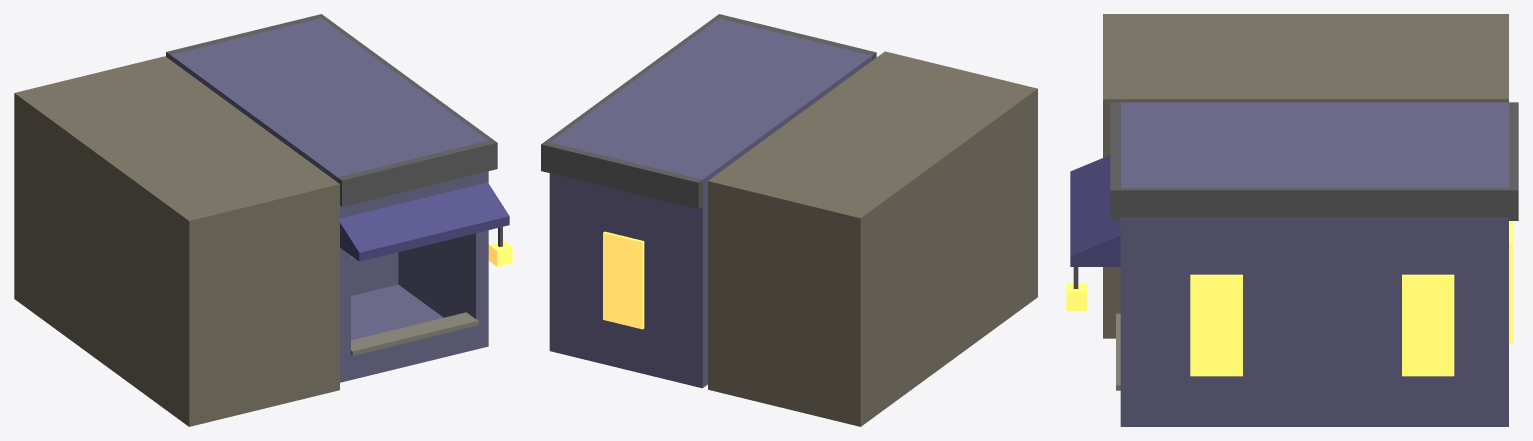
3 views of the same model, side by side, from view 1: azimuth 30°, elevation 25°; view 2: azimuth 150°, elevation 25°; view 3: azimuth 270°, elevation 25° (orthographic). The views are drawn at different scales.
Visible parts, largest first — view 1: Cube.028, Cube.001, Cube.002, Cube.011, Cube, Cube.010, Cube.012, Cube.007; view 2: Cube.028, Cube.001, Cube.012, Cube.013, Cube.010, Cube.011; view 3: Cube.001, Cube.028, Cube.010, Cube.008, Cube.009, Cube.002, Cube.011, Cube.012, Cube.007, Cube.013.
Part boxes in pixels (left/top/right/bottom): Cube.028: left=14, top=56, right=339, bottom=426; Cube.001: left=170, top=18, right=488, bottom=382; Cube.002: left=340, top=182, right=509, bottom=261; Cube.011: left=337, top=139, right=497, bottom=206; Cube: left=350, top=312, right=478, bottom=355; Cube.010: left=321, top=17, right=492, bottom=140; Cube.012: left=166, top=14, right=325, bottom=59; Cube.007: left=488, top=240, right=512, bottom=266; Cube.028: left=708, top=51, right=1037, bottom=426; Cube.001: left=549, top=18, right=871, bottom=388; Cube.012: left=541, top=141, right=702, bottom=209; Cube.013: left=603, top=231, right=644, bottom=329; Cube.010: left=545, top=17, right=718, bottom=142; Cube.011: left=715, top=14, right=876, bottom=60; Cube.001: left=1120, top=102, right=1508, bottom=426; Cube.028: left=1103, top=14, right=1508, bottom=338; Cube.010: left=1120, top=188, right=1508, bottom=216; Cube.008: left=1190, top=274, right=1242, bottom=376; Cube.009: left=1402, top=274, right=1454, bottom=376; Cube.002: left=1070, top=151, right=1120, bottom=266; Cube.011: left=1110, top=102, right=1120, bottom=220; Cube.012: left=1508, top=102, right=1518, bottom=220; Cube.007: left=1066, top=283, right=1086, bottom=310; Cube.013: left=1509, top=221, right=1512, bottom=343.
Bounding box in the file's own units: 12.81 × 8.1 × 13.88.
